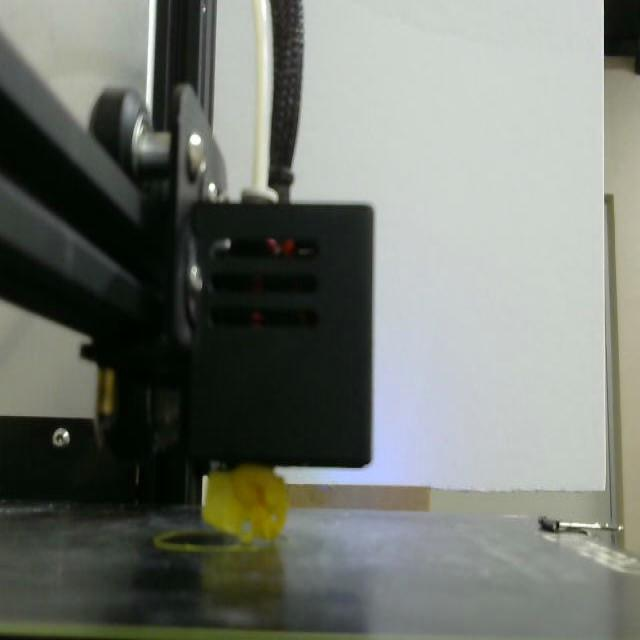spaghetti: (195, 466, 298, 552)
